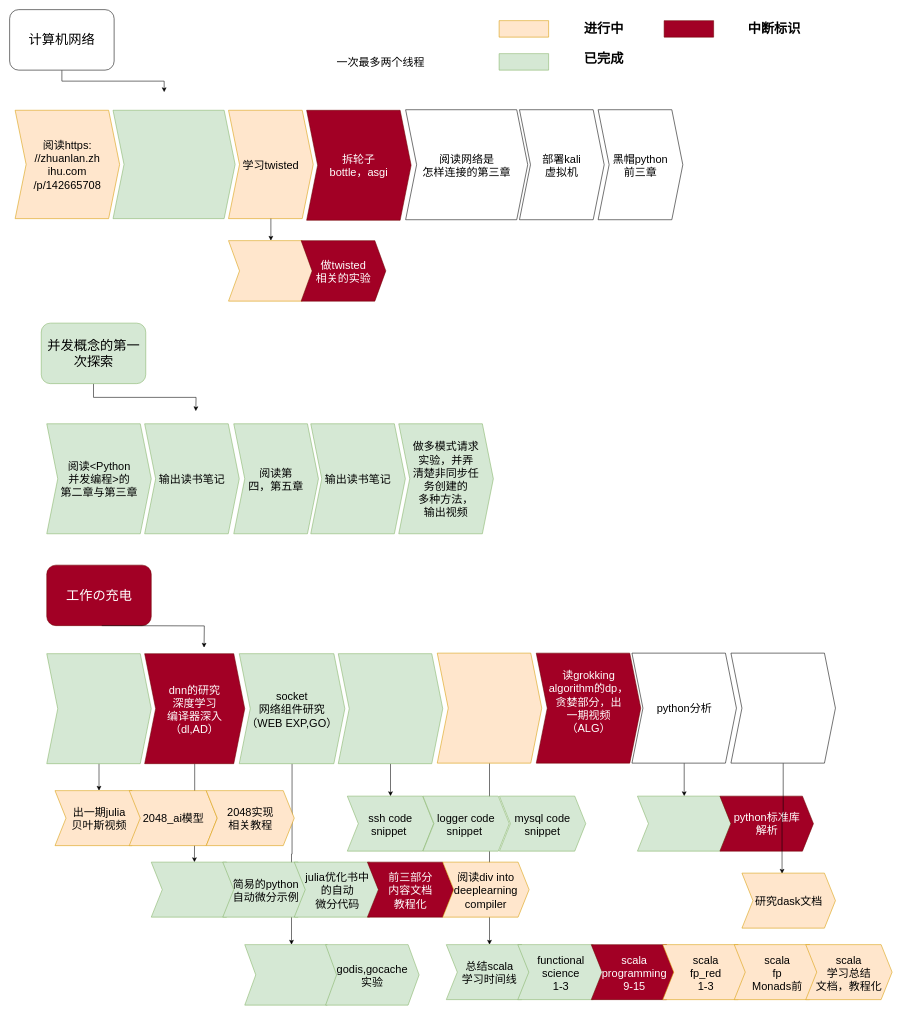
Some shapes in this 902 by 1015 pixel diagram are drawn without their labels. The box of each missing label's shape, as (x1, y1, x2, y2) in pixels:
Cpython编译 教程: (637, 796, 731, 851)
distributed: (730, 653, 835, 763)
Gocache源码 分析: (244, 944, 338, 1005)
julia贝 叶斯统计学 课程 (bayesian): (46, 653, 151, 764)
python网络 编程第一二三章: (112, 110, 235, 219)
python自动化 运维，测试组件 工具 （SNIPPET）: (338, 653, 443, 764)
在windows linux平台 编译tvm: (151, 862, 238, 917)
在虚拟机上 部署 spark+scala 环境，出一期 视频 （FN）: (437, 653, 542, 763)
看完 krnodo教程: (228, 240, 313, 301)
